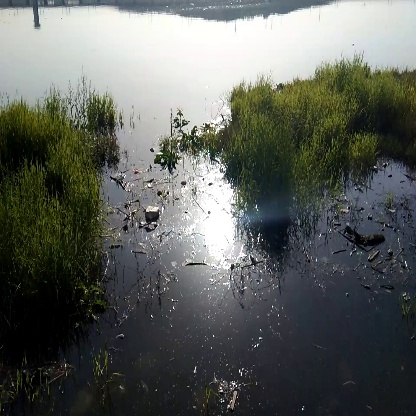plastic-garbage: (140, 200, 167, 228)
